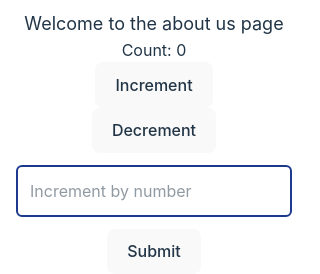
Test case: About › should decrement by 1 when clicking the - sign
The image size is (320, 274).
# Fire the click event
Click the button "Decrement" at (154, 130), box [92, 108, 216, 153]
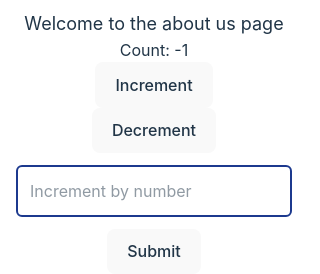
Expected: the heading with test id "count" reads "Count: -1", [120, 38, 188, 62]
